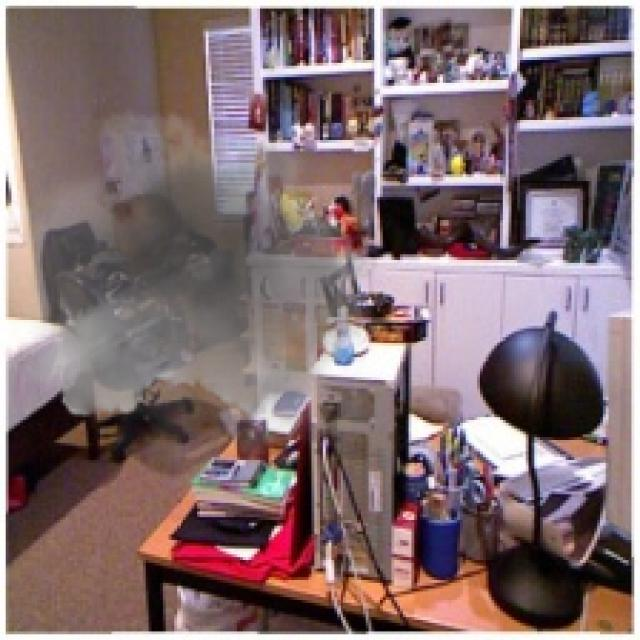smoke: (3, 91, 391, 500)
